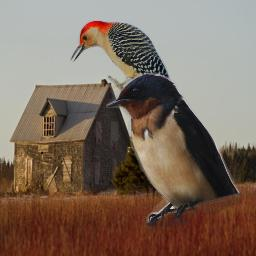Swallow: (106, 72, 241, 227)
Woodpecker: (70, 20, 179, 123)
